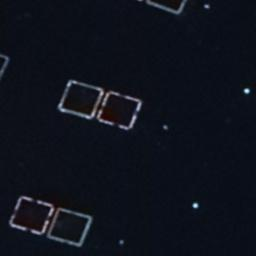square_solid: (55, 74, 113, 126), (4, 188, 60, 240), (91, 87, 149, 135), (43, 200, 98, 250), (141, 1, 196, 19), (1, 48, 16, 85)
